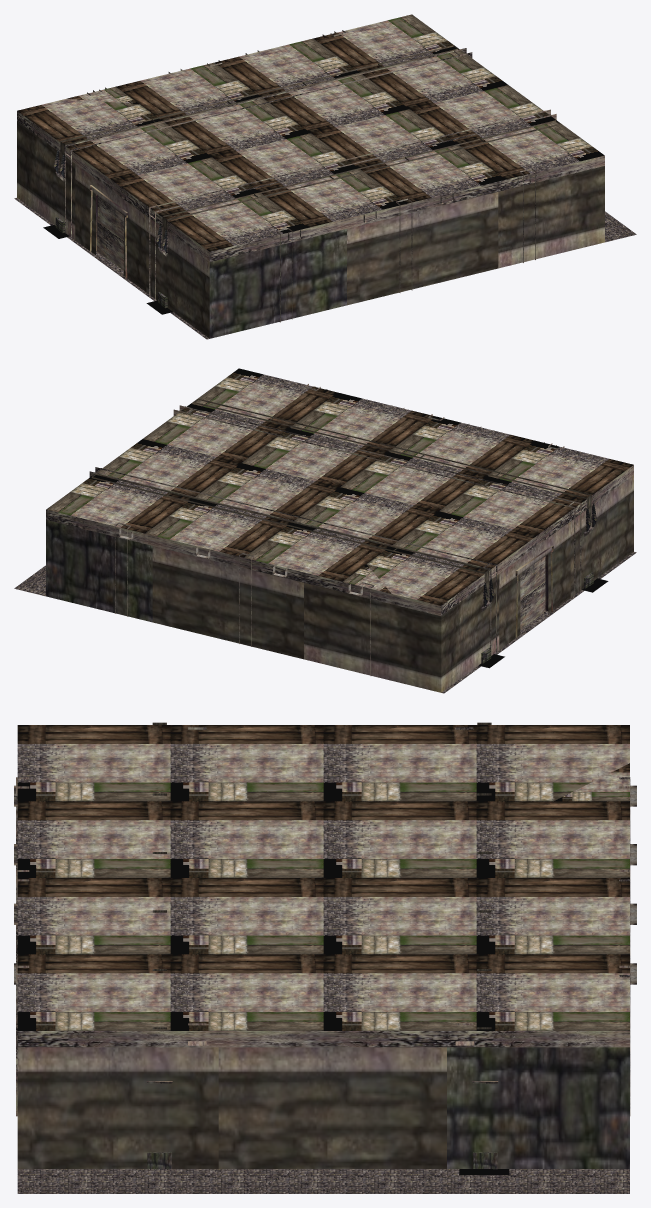
Rendered from interior_fort.fbx.
The picture shows the model from 3 angles, top to bottom: view 1: azimuth 30°, elevation 25°; view 2: azimuth 150°, elevation 25°; view 3: azimuth 270°, elevation 25°; orthographic projection. The views are drawn at different scales.
Visible parts, largest first — view 1: ceiling, walls, polySurface74, doorframe, floor; view 2: ceiling, walls, polySurface74, doorframe, floor; view 3: ceiling, walls, floor, polySurface74.
Part boxes in pixels (x1,y1,x2,y2): ceiling: [17, 14, 604, 251]; walls: [17, 121, 604, 338]; polySurface74: [17, 30, 604, 322]; doorframe: [90, 185, 127, 278]; floor: [14, 198, 636, 339]; ceiling: [46, 368, 633, 605]; walls: [46, 475, 633, 692]; polySurface74: [46, 384, 633, 675]; doorframe: [515, 545, 553, 638]; floor: [14, 552, 636, 693]; ceiling: [17, 725, 629, 1030]; walls: [17, 1047, 629, 1168]; floor: [17, 1169, 629, 1193]; polySurface74: [16, 727, 630, 1116].
Bounding box in the file's own units: 13105 × 2551 × 10158.
Materials: 4 (4 with a texture image).
